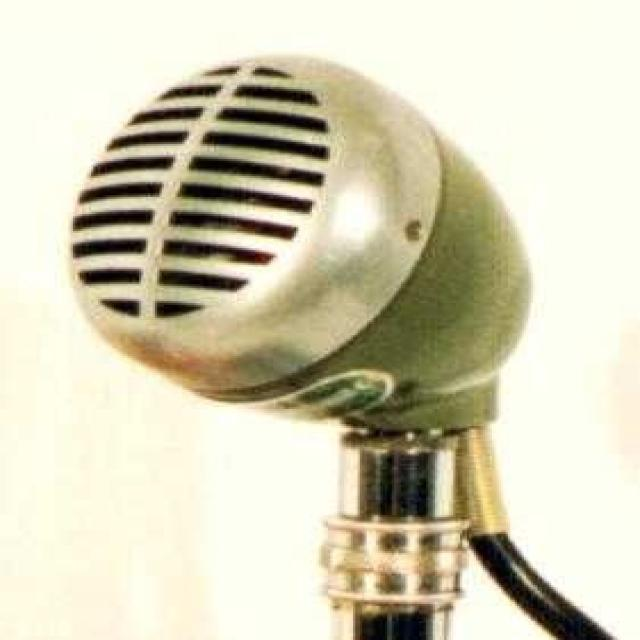microphone: (69, 47, 626, 630)
